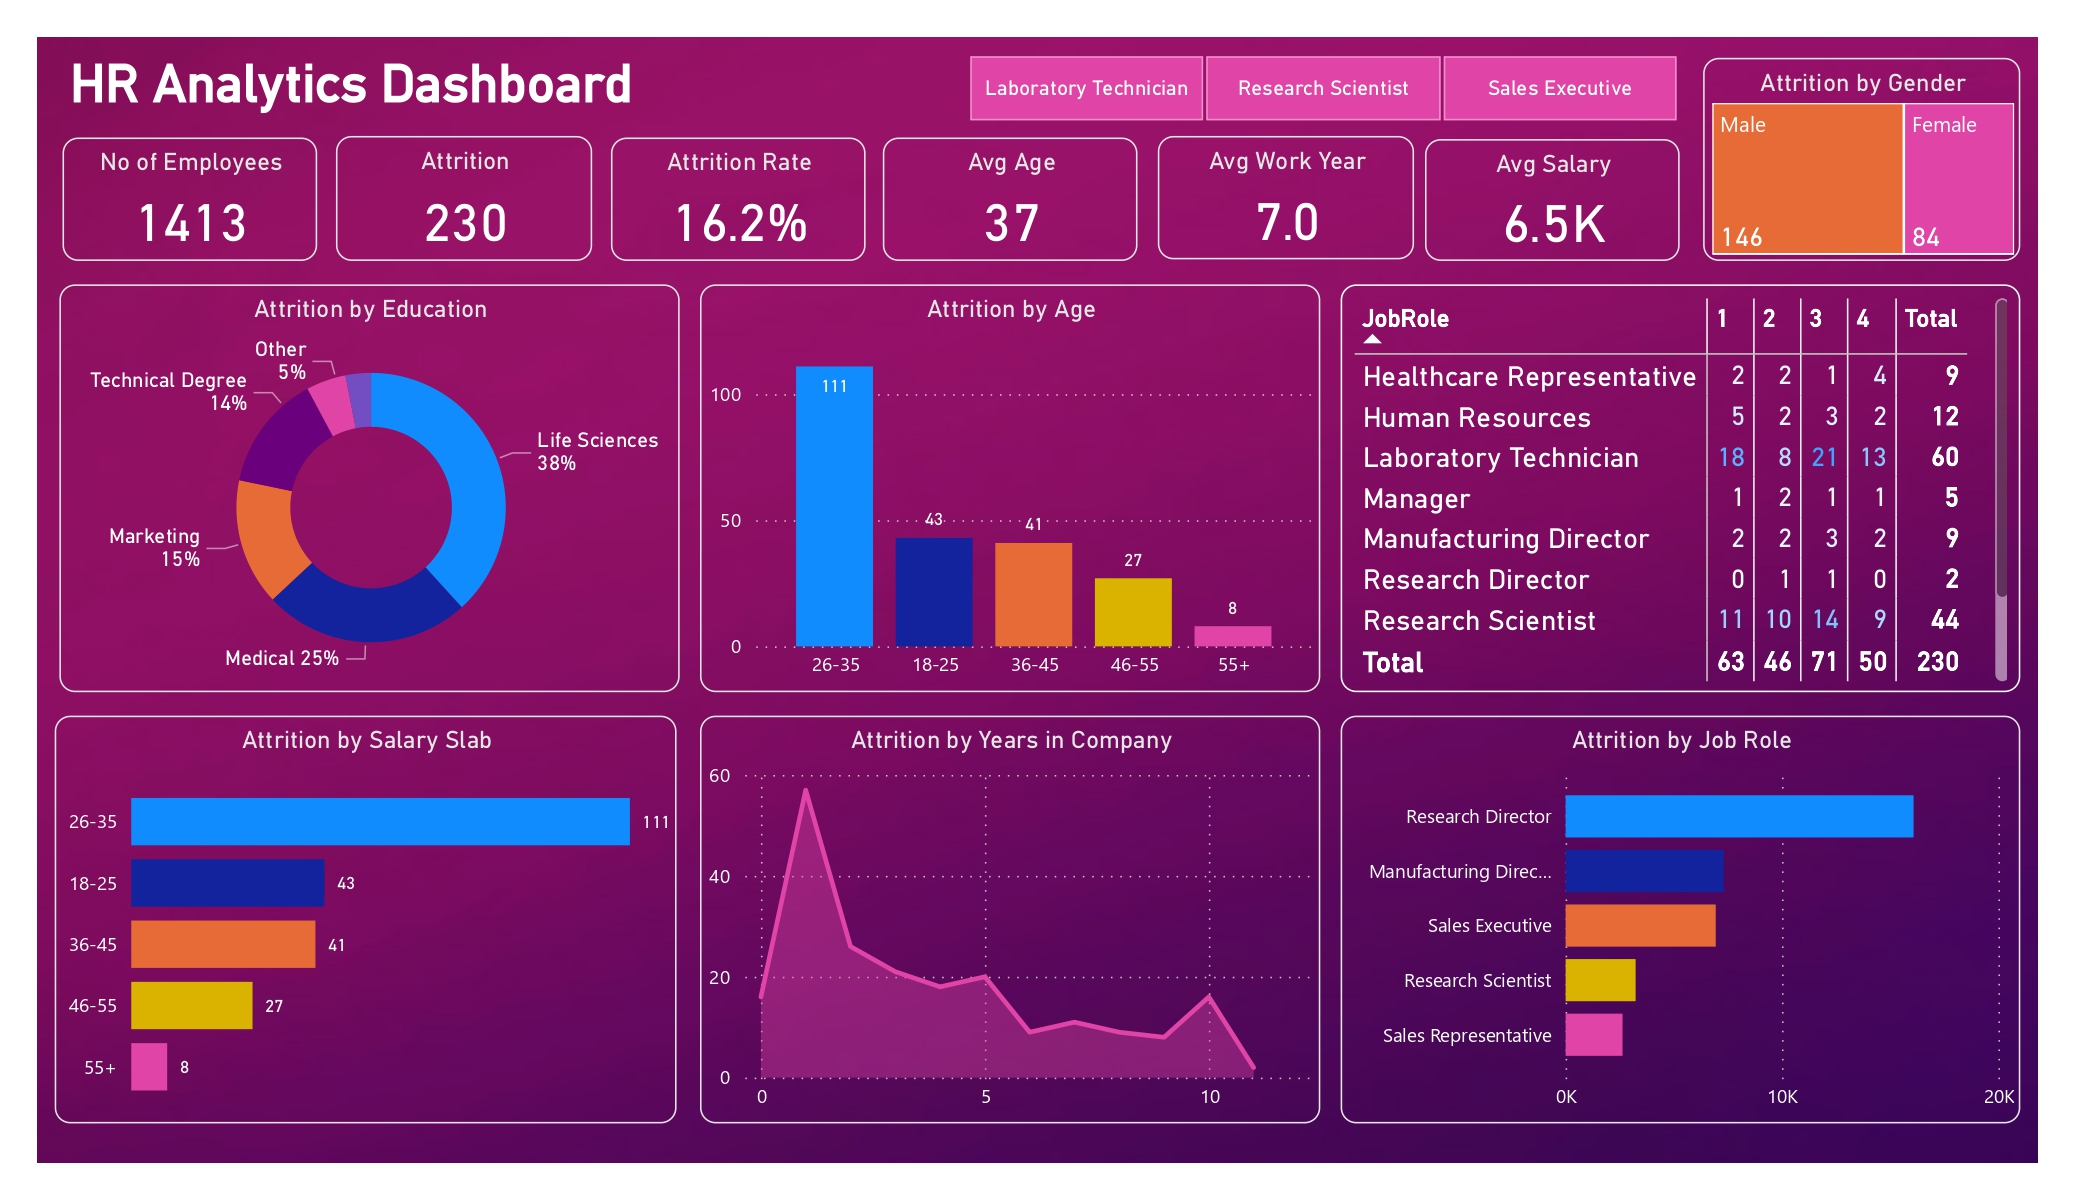

The dashboard page shown, as its layout file describes it:
{"tool":"powerbi","page":{"name":"Page 1","canvas":[1280,720],"ordinal":0},"visuals":[{"type":"card","title":"No of Employees","fields":{"Values":["Count(HR_Analytics.EmpID)"]},"box":[15.9,64.5,163.4,78.7],"z":0},{"type":"card","title":"Attrition","fields":{"Values":["Sum(HR_Analytics.AttritionRate)"]},"box":[191.3,63.3,163.4,79.9],"z":1000},{"type":"card","title":"Attrition Rate","fields":{"Values":["HR_Analytics.AtrritionRates"]},"box":[366.6,64.5,163.4,78.7],"z":2000},{"type":"card","title":"Avg Age","fields":{"Values":["Avg(HR_Analytics.Age)"]},"box":[541.1,64.4,163.3,78.9],"z":3000},{"type":"card","title":"Avg Salary","fields":{"Values":["Avg(HR_Analytics.MonthlyIncome)"]},"box":[888.2,64.5,162.7,78.2],"z":4000},{"type":"card","title":"Avg Work Year","fields":{"Values":["Avg(HR_Analytics.YearsAtCompany)"]},"box":[716.7,63.3,164.4,78.9],"z":5000},{"type":"donutChart","title":"Attrition by Education","fields":{"Category":["HR_Analytics.EducationField"],"Y":["Sum(HR_Analytics.AttritionRate)"]},"box":[13.8,157.5,397.5,261.2],"z":6000},{"type":"columnChart","title":"Attrition by Age","fields":{"Category":["HR_Analytics.AgeGroup"],"Y":["Sum(HR_Analytics.AttritionRate)"]},"box":[423.8,157.5,397.5,261.2],"z":7000},{"type":"pivotTable","fields":{"Rows":["HR_Analytics.JobRole"],"Columns":["HR_Analytics.JobSatisfaction"],"Values":["Sum(HR_Analytics.AttritionRate)"]},"box":[833.8,157.5,435,261.2],"z":8000},{"type":"barChart","title":"Attrition by Salary Slab","fields":{"Y":["Sum(HR_Analytics.AttritionRate)"],"Category":["HR_Analytics.AgeGroup"]},"box":[11.2,433.8,397.5,261.2],"z":9000},{"type":"stackedAreaChart","title":"Attrition by Years in Company","fields":{"Category":["HR_Analytics.YearsAtCompany"],"Y":["Sum(HR_Analytics.AttritionRate)"]},"box":[423.8,433.8,397.5,261.2],"z":10000},{"type":"barChart","title":"Attrition by Job Role","fields":{"Category":["HR_Analytics.JobRole"],"Y":["Avg(HR_Analytics.MonthlyIncome)"]},"box":[833.8,433.8,435,261.2],"z":11000},{"type":"treemap","title":"Attrition by Gender","fields":{"Group":["HR_Analytics.Gender"],"Values":["Sum(HR_Analytics.AttritionRate)"]},"box":[1066.2,12.5,202.5,130],"z":12000},{"type":"slicer","fields":{"Values":["HR_Analytics.JobRole"]},"box":[570.8,5,501.7,55],"z":13000},{"type":"textbox","box":[15.5,4.8,384.1,57.3],"z":14000}]}

Visuals, with their boxes in screenshot pixels (x1, y1, x2, y2):
"No of Employees" card: box=[62, 138, 318, 261]
"Attrition" card: box=[336, 136, 592, 261]
"Attrition Rate" card: box=[610, 138, 866, 261]
"Avg Age" card: box=[883, 138, 1138, 261]
"Avg Salary" card: box=[1425, 138, 1680, 260]
"Avg Work Year" card: box=[1157, 136, 1414, 260]
"Attrition by Education" donutChart: box=[59, 284, 680, 692]
"Attrition by Age" columnChart: box=[700, 284, 1321, 692]
pivotTable - HR_Analytics.JobRole x HR_Analytics.JobSatisfaction: box=[1340, 284, 2020, 692]
"Attrition by Salary Slab" barChart: box=[55, 715, 676, 1123]
"Attrition by Years in Company" stackedAreaChart: box=[700, 715, 1321, 1123]
"Attrition by Job Role" barChart: box=[1340, 715, 2020, 1123]
"Attrition by Gender" treemap: box=[1703, 57, 2020, 260]
slicer - HR_Analytics.JobRole: box=[929, 45, 1713, 131]
textbox: box=[62, 45, 662, 135]
